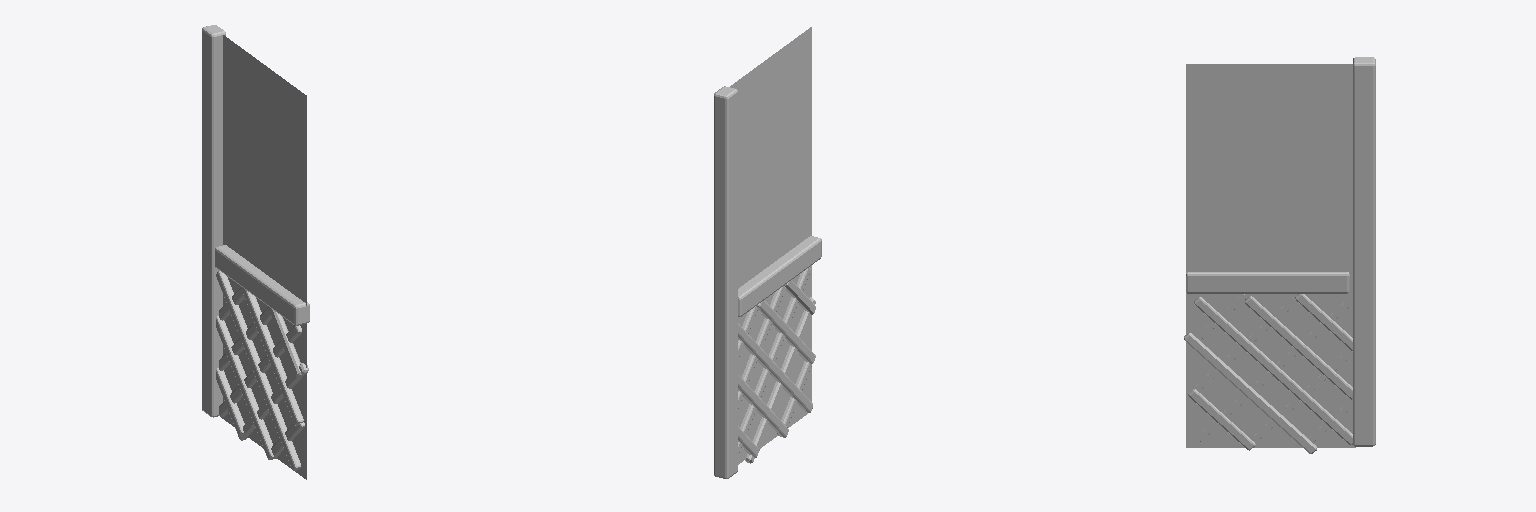
Rendered from PanelHP.obj.
3 views of the same model, side by side, from view 1: azimuth 30°, elevation 25°; view 2: azimuth 150°, elevation 25°; view 3: azimuth 270°, elevation 25° (orthographic).
Parts seen in each view (by area): view 1: group12 pPlane27, group12 pCube159, pPlane26 group12, group12 pCube160, group12 pCube151, group12 pCube150, group12 pCube152, group12 pCube153, group12 pCube155, group12 pCube149, group12 pCube158, group12 pCube154; view 2: group12 pPlane27, group12 pCube159, pPlane26 group12, group12 pCube160, group12 pCube151, group12 pCube153, group12 pCube155, group12 pCube152, group12 pCube150, group12 pCube154; view 3: group12 pPlane27, pPlane26 group12, group12 pCube159, group12 pCube160, group12 pCube153, group12 pCube155, group12 pCube154, group12 pCube151, group12 pCube157, group12 pCube156, group12 pCube152, group12 pCube150.
Part boxes in pixels (x1,y1,x2,y2): group12 pPlane27: (223,35,306,305); group12 pCube159: (202,25,225,417); pPlane26 group12: (221,276,306,479); group12 pCube160: (215,245,309,325); group12 pCube151: (216,271,301,470); group12 pCube150: (216,316,274,459); group12 pCube152: (242,288,303,425); group12 pCube153: (219,325,301,416); group12 pCube155: (238,363,308,440); group12 pCube149: (216,368,244,436); group12 pCube158: (269,307,301,376); group12 pCube154: (219,307,271,370); group12 pPlane27: (730,27,811,288); group12 pCube159: (714,86,737,478); pPlane26 group12: (738,265,811,464); group12 pCube160: (738,236,821,316); group12 pCube151: (738,323,812,412); group12 pCube153: (738,267,810,454); group12 pCube155: (745,297,815,463); group12 pCube152: (757,300,815,363); group12 pCube150: (738,375,788,437); group12 pCube154: (738,286,785,408); group12 pPlane27: (1186,64,1352,276); pPlane26 group12: (1186,277,1355,447); group12 pCube159: (1353,57,1375,446); group12 pCube160: (1186,272,1349,293); group12 pCube153: (1194,297,1352,444); group12 pCube155: (1184,333,1316,453); group12 pCube154: (1245,296,1352,399); group12 pCube151: (1196,299,1352,441); group12 pCube157: (1188,389,1255,450); group12 pCube156: (1295,294,1352,351); group12 pCube152: (1191,295,1296,391); group12 pCube150: (1251,349,1352,442).
Size of the model in its own units: 0.437 by 10.7 by 4.74.